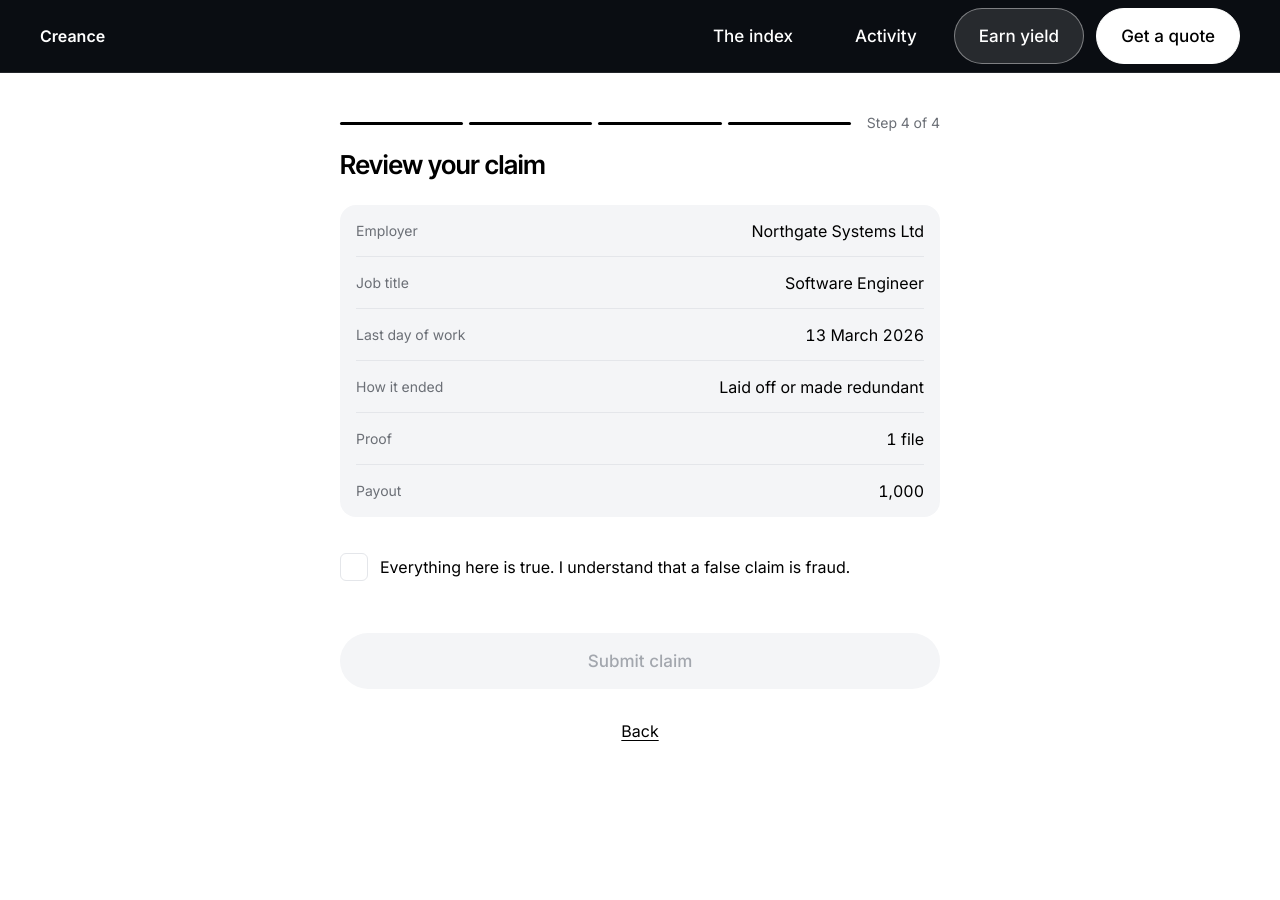
Test: C5, review and submit › does not offer to submit until the statement is accepted
Expected: the button "Submit claim" is disabled, [340,633,940,689]
What coordinates should you click on to do the following:
click the checkbox
I would click on:
 (595, 567)
Its box is [340,553,850,581].
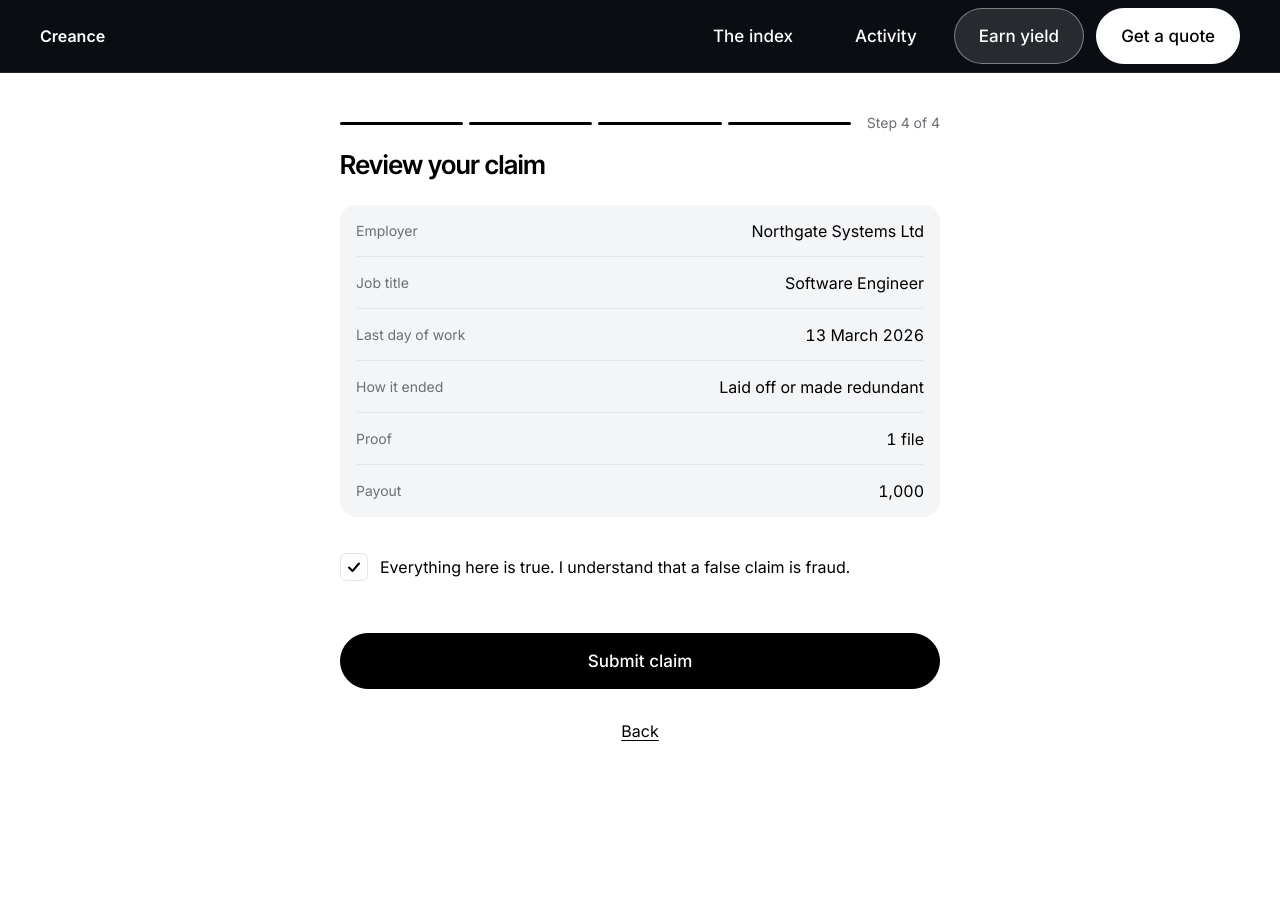
Result: the button "Submit claim" is enabled at [340,633,940,689]
